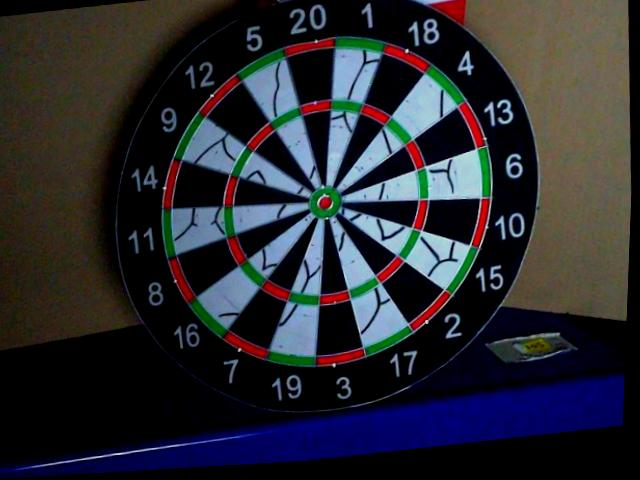double_14: (163, 161, 178, 210)
